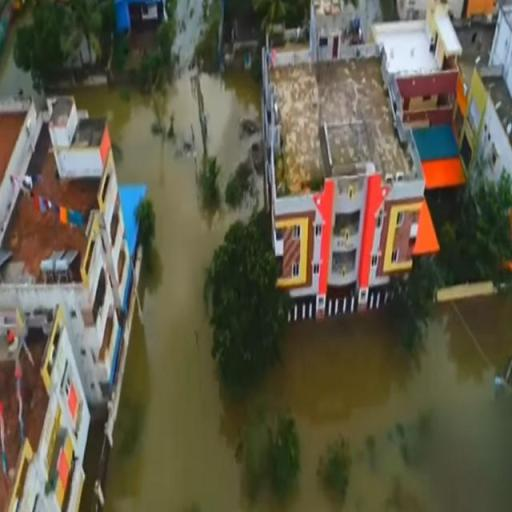flood: (73, 0, 512, 512), (0, 9, 33, 100)
house: (0, 90, 144, 407), (262, 49, 424, 289), (0, 306, 88, 512), (469, 4, 512, 185), (384, 60, 463, 134), (309, 1, 376, 68), (126, 1, 168, 34), (457, 0, 500, 28)
